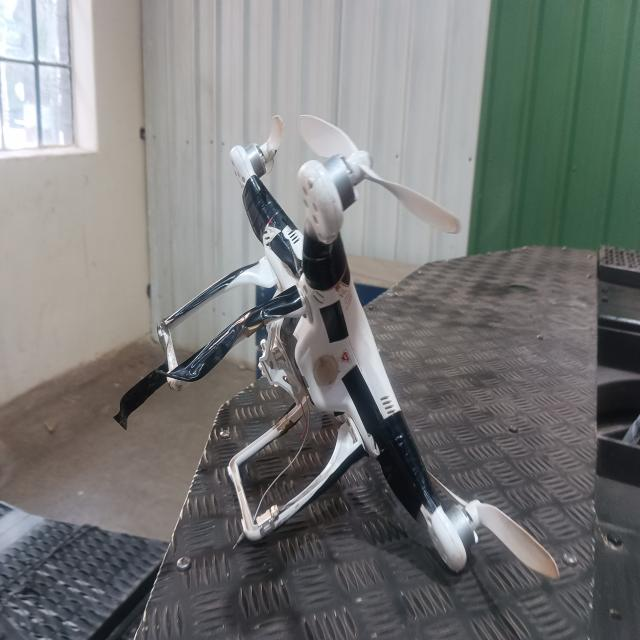drone: (155, 118, 503, 579)
